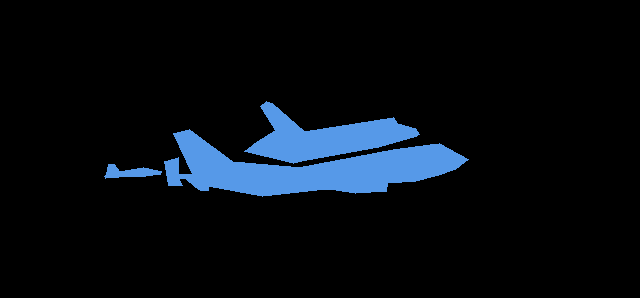Airplane: (164, 129, 468, 196), (244, 101, 419, 163), (104, 164, 161, 178)
